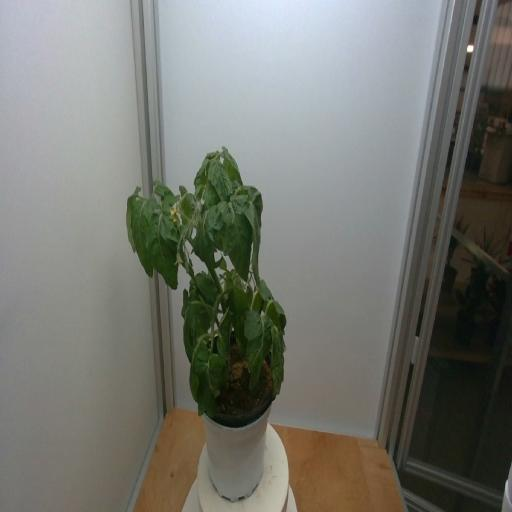Tomato-Leaves-Cupboard-: (147, 197, 179, 298), (240, 182, 266, 284), (244, 305, 274, 392), (130, 198, 158, 284), (193, 342, 222, 416), (184, 265, 221, 323), (251, 274, 289, 330), (227, 209, 253, 289), (182, 284, 201, 364), (270, 321, 289, 400), (208, 156, 233, 203), (193, 213, 216, 260), (233, 275, 256, 318), (127, 184, 141, 254), (218, 310, 232, 380), (180, 182, 197, 220), (226, 148, 242, 188), (217, 191, 239, 220), (202, 178, 220, 208), (192, 169, 208, 201), (208, 207, 227, 233), (153, 175, 172, 200), (186, 372, 200, 399), (223, 279, 235, 293)
